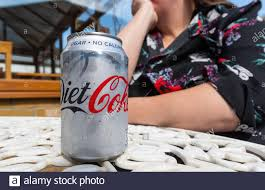can: (56, 25, 135, 168)
